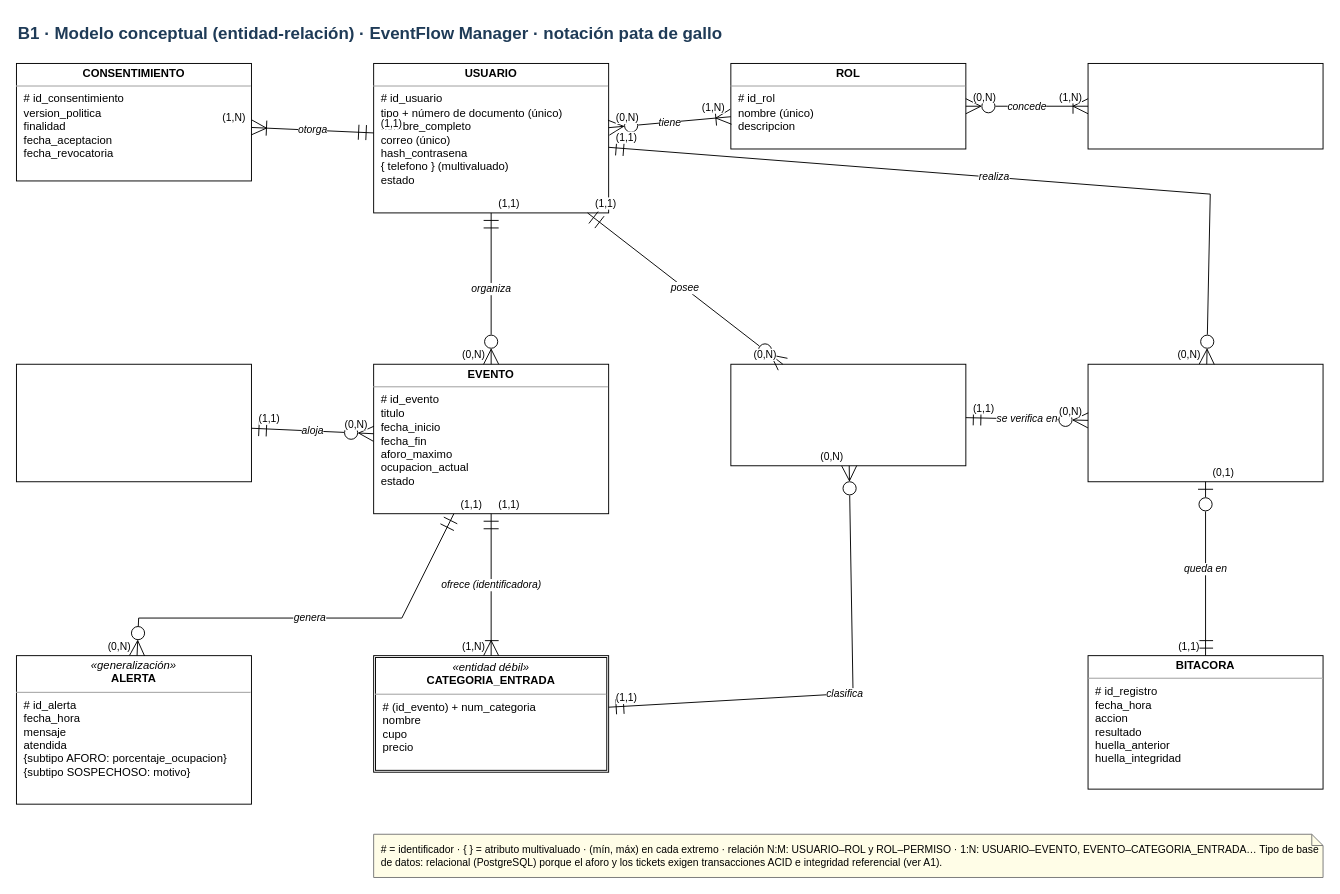
This 1340x894 diagram has some shape labels left out. Each missing label, with the box of its shape:
PERMISO # id_permiso codigo (único) modulo: (1087, 63, 1323, 149)
SEDE # id_sede nombre direccion ciudad capacidad_fisica: (16, 363, 251, 482)
TICKET # id_ticket codigo (único) fecha_emision estado: (730, 363, 966, 466)
VALIDACION # id_validacion fecha_hora puerta resultado motivo_rechazo: (1087, 363, 1323, 482)
